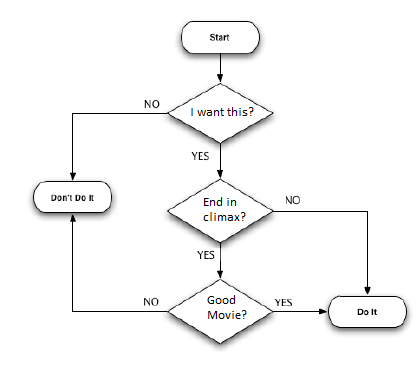arrow: (68, 214, 170, 314), (275, 209, 371, 295), (69, 111, 167, 180), (271, 307, 331, 316), (217, 243, 226, 279), (216, 143, 224, 178), (216, 52, 224, 82)
decision: (168, 279, 273, 344), (167, 179, 273, 242), (167, 83, 274, 143)
terminator: (180, 20, 261, 55), (328, 295, 408, 330), (33, 180, 113, 214)
text: (201, 196, 247, 223), (205, 295, 247, 323), (189, 106, 256, 117), (49, 192, 95, 202), (208, 31, 231, 43), (197, 249, 217, 261), (355, 308, 379, 317), (273, 297, 294, 307), (191, 150, 211, 160), (284, 194, 300, 205), (142, 297, 159, 307), (143, 99, 159, 108)
